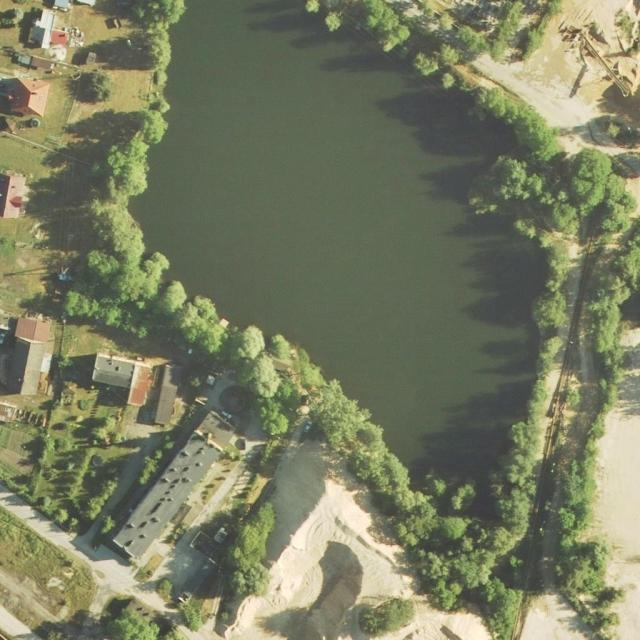building: (110, 408, 239, 563), (0, 316, 52, 395), (88, 351, 153, 407), (154, 363, 183, 427), (10, 75, 50, 118), (0, 172, 29, 218), (27, 7, 55, 50), (45, 28, 72, 63), (15, 53, 55, 72), (29, 25, 46, 45)
dryland: (176, 438, 521, 640), (0, 506, 125, 640)
greenland: (0, 325, 171, 529), (103, 597, 186, 640)
